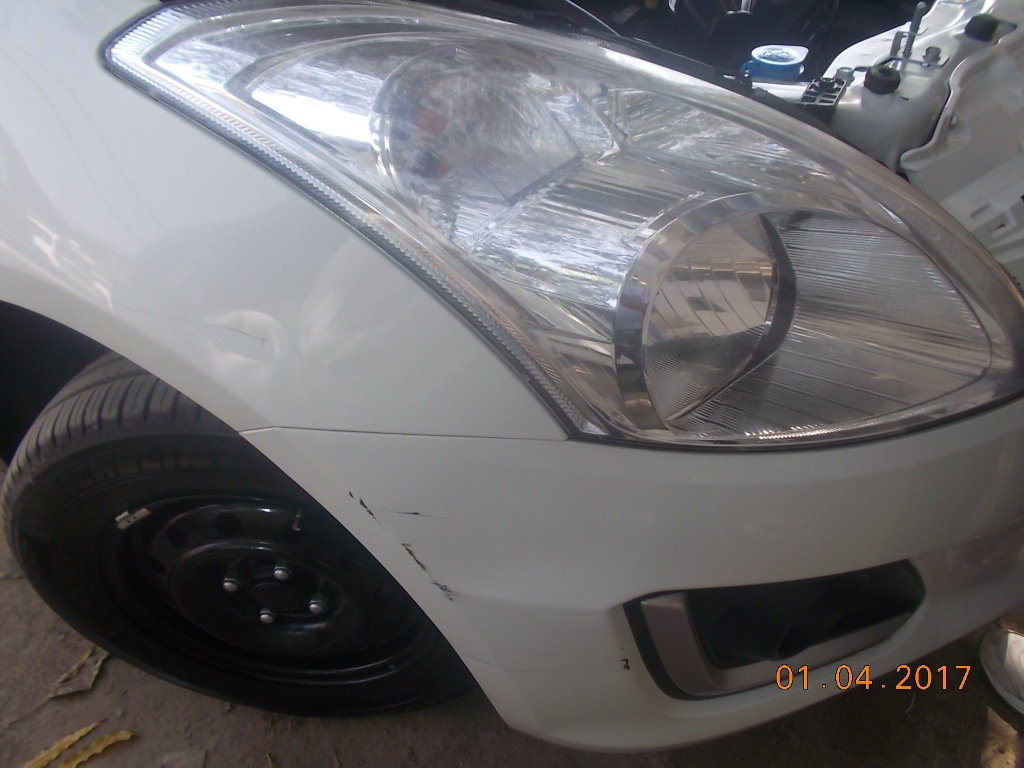Scratch_or_spot: (396, 535, 446, 581), (339, 478, 380, 522)
